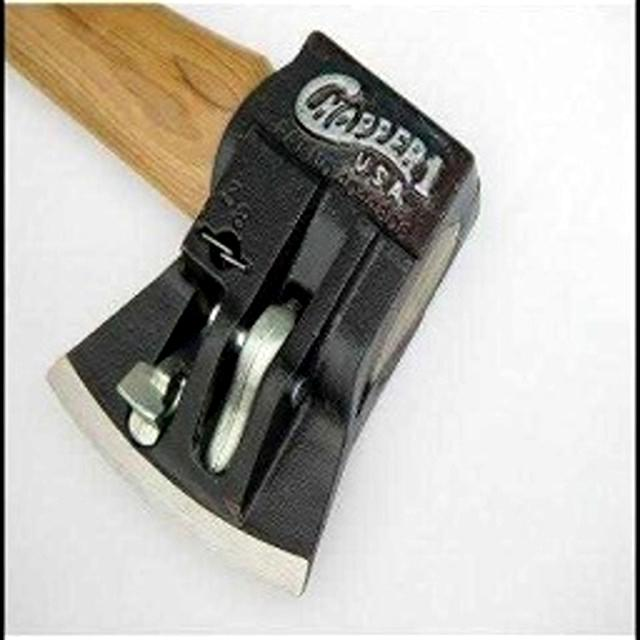ax: (2, 2, 496, 609)
